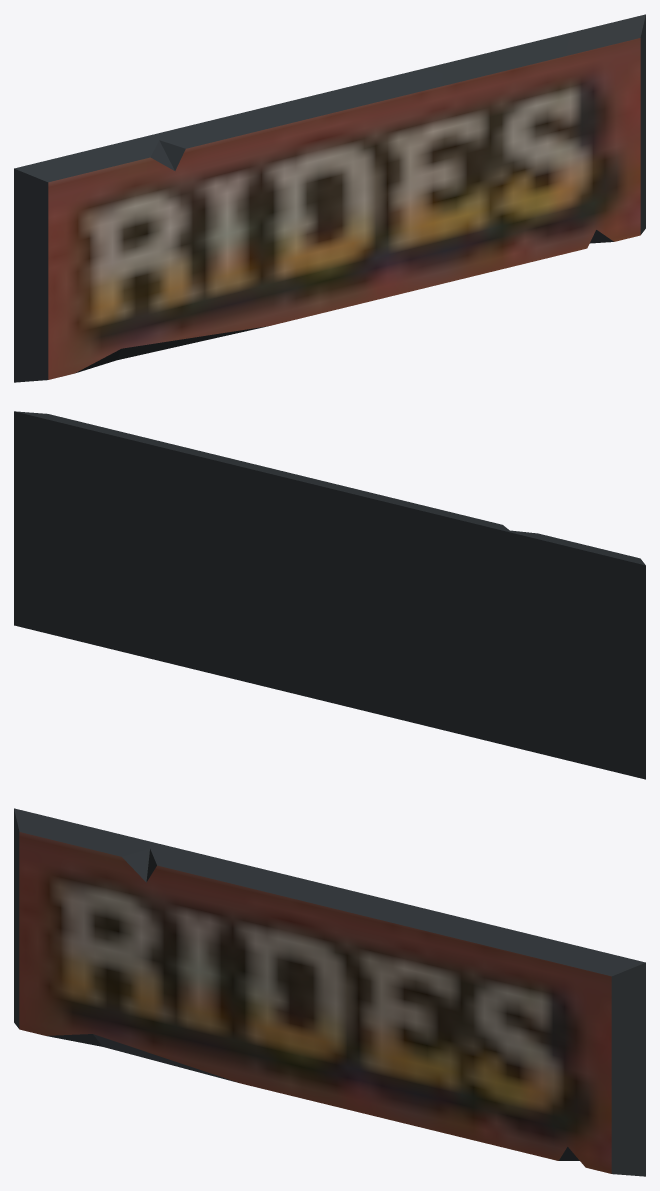
Rendered from sign-rides.glb.
3 views of the same model, one above another, from view 1: azimuth 30°, elevation 25°; view 2: azimuth 150°, elevation 25°; view 3: azimuth 330°, elevation 25° (orthographic).
Visible parts, largest first — view 1: SM_Prop_Sign_Rides_01; view 2: SM_Prop_Sign_Rides_01; view 3: SM_Prop_Sign_Rides_01.
Boxes of the visible parts, left/top/right/bottom form: SM_Prop_Sign_Rides_01: left=14, top=14, right=645, bottom=382; SM_Prop_Sign_Rides_01: left=14, top=411, right=645, bottom=779; SM_Prop_Sign_Rides_01: left=14, top=808, right=645, bottom=1176.
Bounding box in the file's own units: 128 × 41.49 × 5.04.
1 material, 1 textured.
